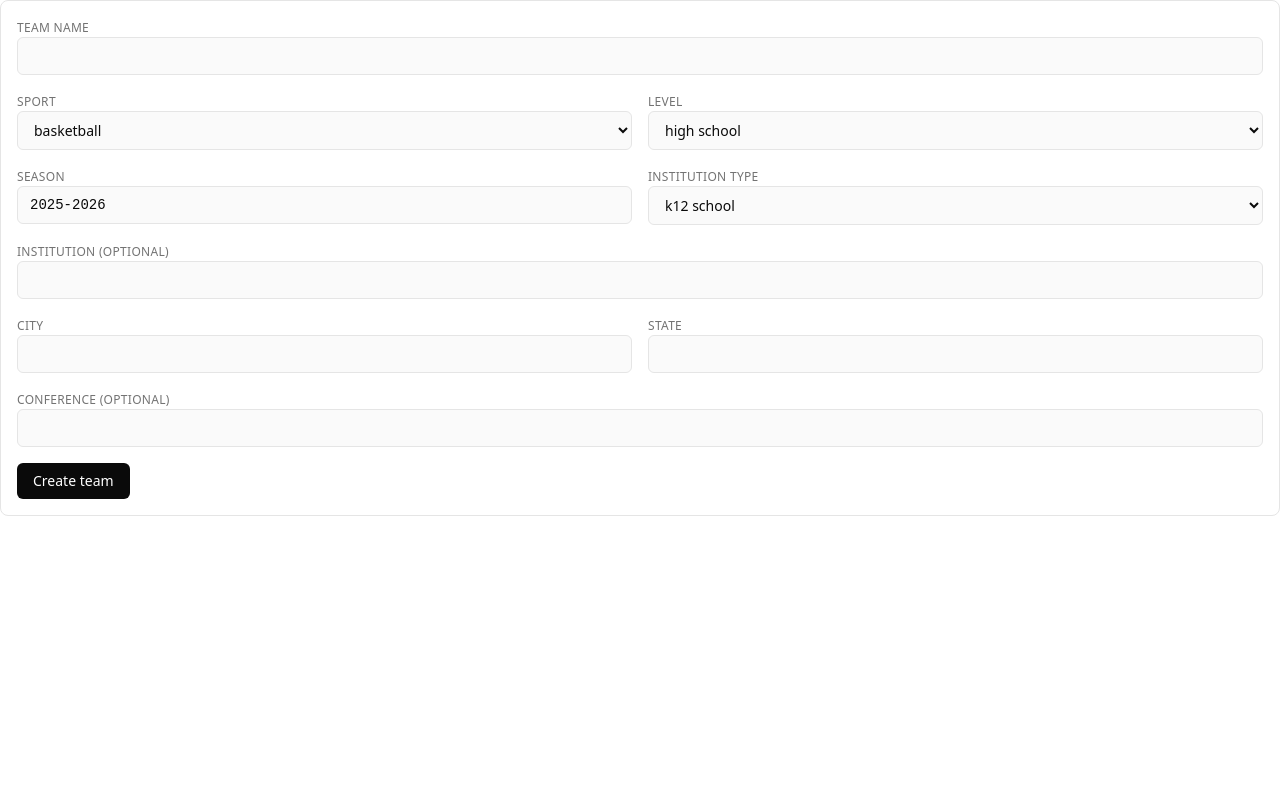
Scenario: CreateTeamForm › tells an unverified coach to verify email before creating a team
Type "Alpha Team" into the field labelled "Team name" at (640, 56), box x1=17 y1=37 x2=1263 y2=75
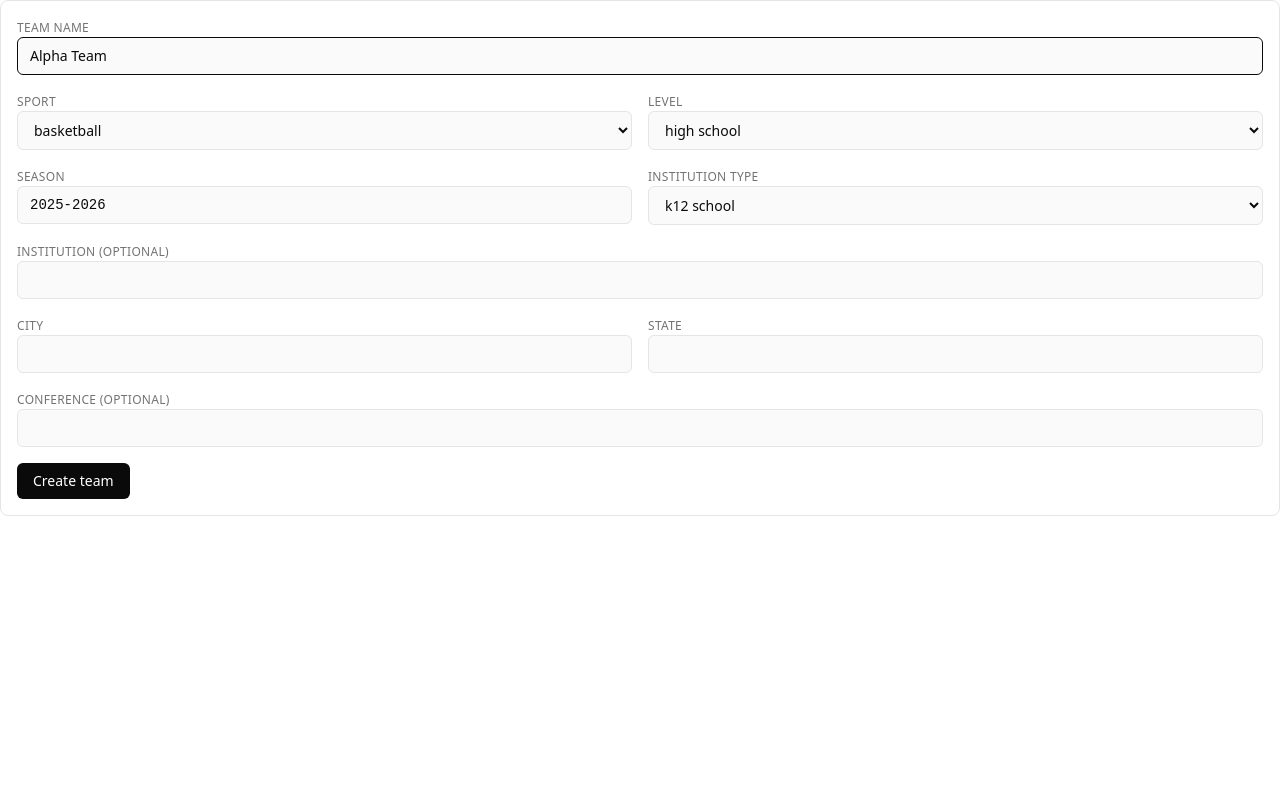
Click the button "Create team" at (73, 481), box x1=17 y1=463 x2=130 y2=499
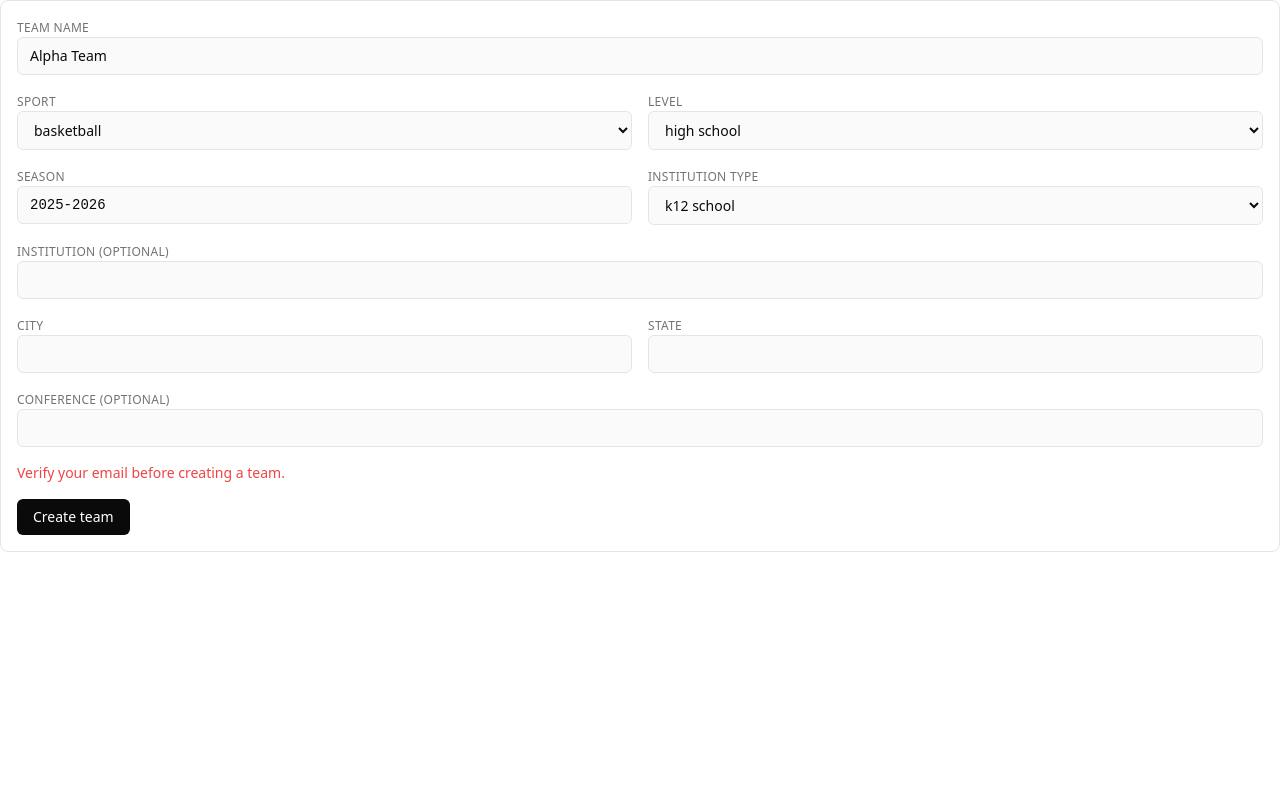
expect the message shows "Verify your email": met, box x1=17 y1=463 x2=285 y2=482
